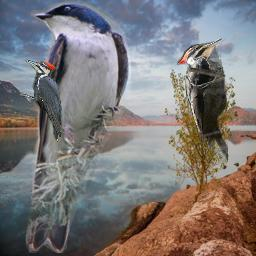Swallow: (22, 0, 131, 253)
Woodpecker: (177, 38, 228, 167), (20, 59, 65, 142)
